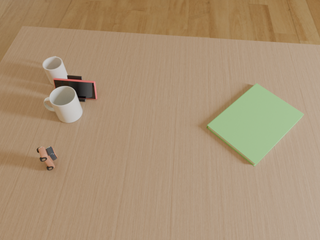book: (207, 83, 304, 166)
cup: (44, 86, 82, 123), (43, 56, 67, 85)
phone: (53, 78, 97, 99)
toy_car: (37, 146, 58, 170)
